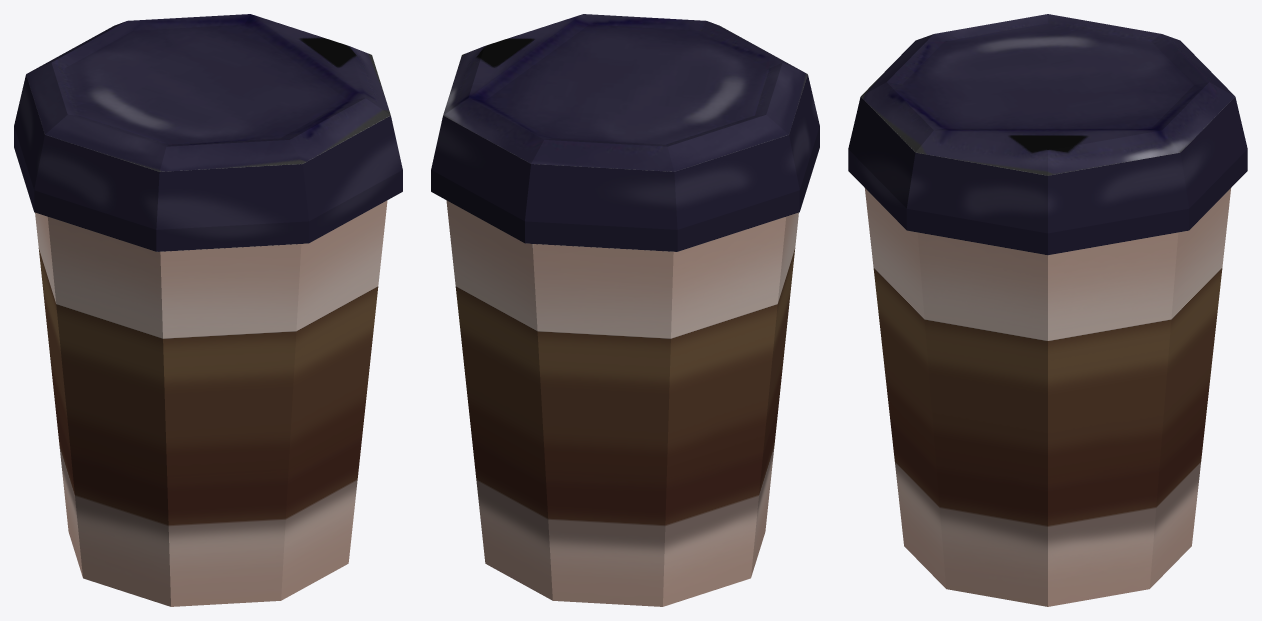
File: coffee.fbx
The picture shows the model from 3 angles, left to right: view 1: azimuth 30°, elevation 25°; view 2: azimuth 150°, elevation 25°; view 3: azimuth 270°, elevation 25°; orthographic projection.
Visible parts, largest first — view 1: Coffee.001; view 2: Coffee.001; view 3: Coffee.001.
Part boxes in pixels (x1,y1,x2,y2): Coffee.001: (14, 14, 402, 606); Coffee.001: (431, 14, 819, 606); Coffee.001: (848, 14, 1247, 606).
Bounding box in the file's own units: 121 × 155 × 121.
